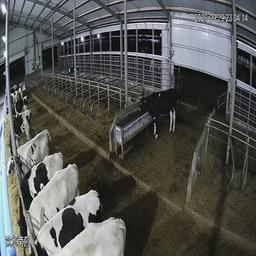cow: (33, 177, 107, 250), (17, 154, 79, 236), (47, 211, 136, 255), (138, 89, 179, 141), (7, 130, 59, 165), (8, 109, 35, 143), (5, 92, 26, 113), (5, 79, 24, 99)
